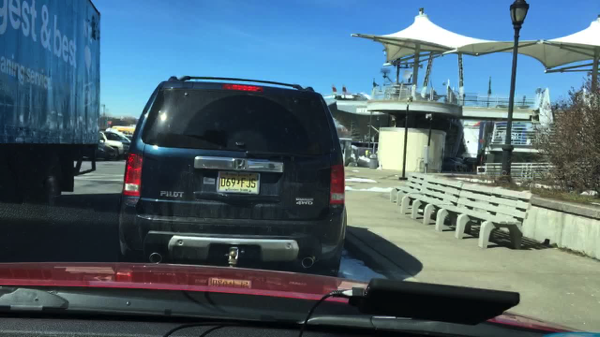car: (117, 76, 346, 278), (100, 130, 132, 157), (104, 127, 134, 142), (95, 142, 117, 160), (442, 157, 463, 172), (452, 157, 469, 172), (112, 126, 134, 134)
truck: (0, 0, 101, 209)
